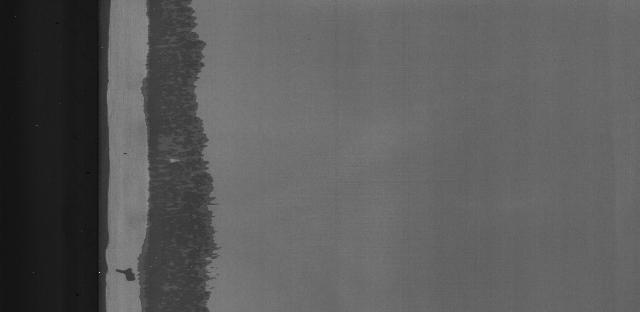oil_spot: (131, 4, 240, 312)
